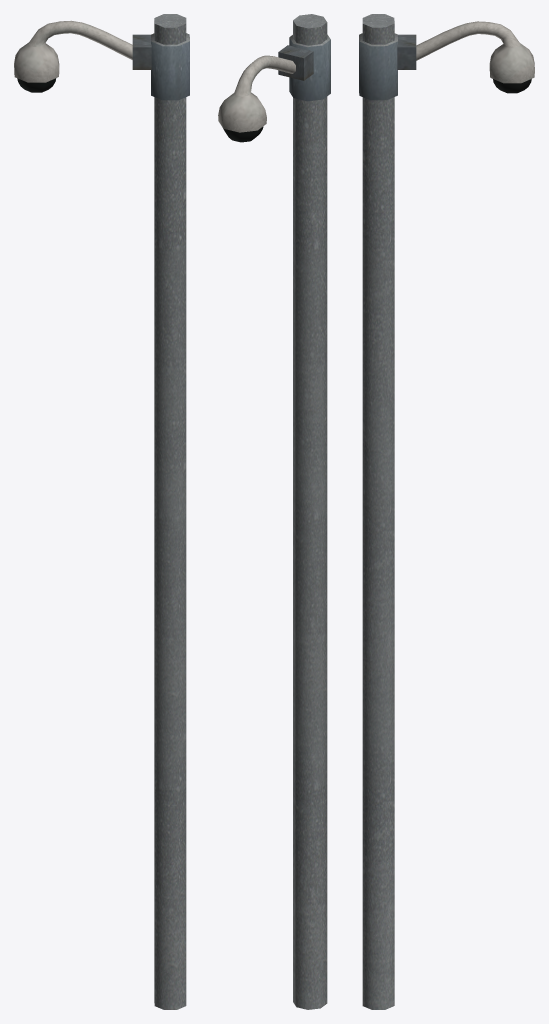
File: Camera.fbx
3 renders of one model, left to right at view 1: azimuth 90°, elevation 25°; view 2: azimuth 150°, elevation 25°; view 3: azimuth 270°, elevation 25°, orthographic.
Visible parts, largest first — view 1: Light-01; view 2: Light-01; view 3: Light-01.
Part boxes in pixels (left/top/right/bottom): Light-01: left=14, top=14, right=189, bottom=1009; Light-01: left=218, top=14, right=330, bottom=1009; Light-01: left=359, top=14, right=534, bottom=1009.
Size of the model in its own units: 23.31 by 551 by 89.35.
